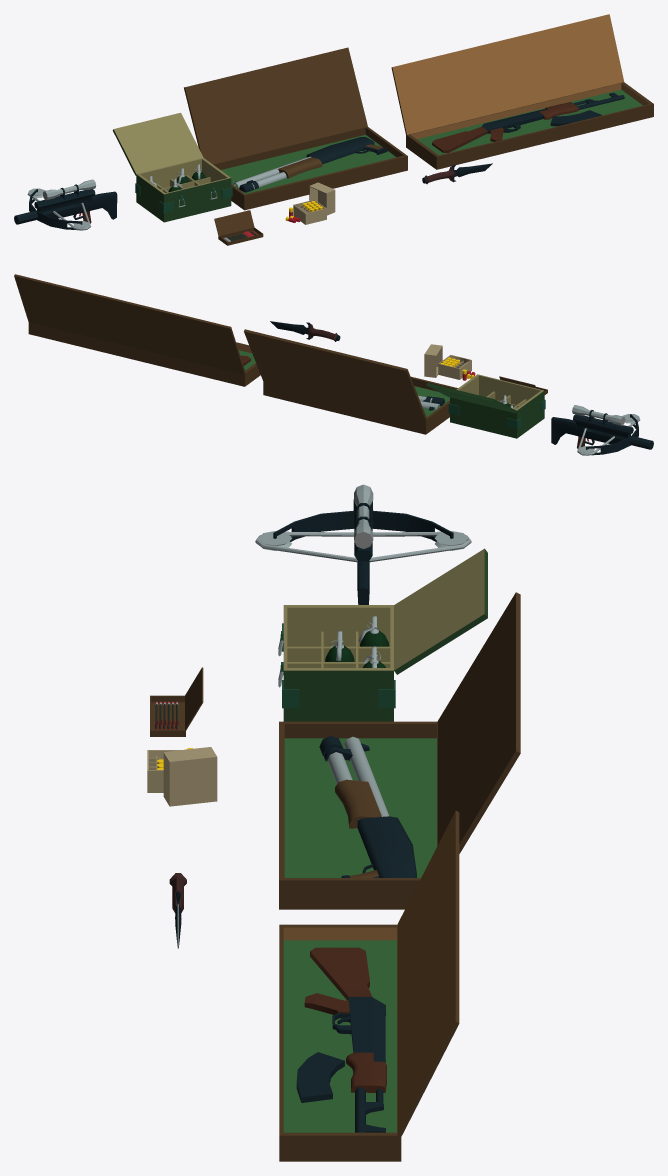
Rendered from Assets_gunshop.fbx.
3 renders of one model, top to bottom at view 1: azimuth 30°, elevation 25°; view 2: azimuth 150°, elevation 25°; view 3: azimuth 270°, elevation 25°, orthographic. The views are drawn at different scales.
Parts seen in each view (by area): view 1: AKM, Shotgun, Granade, Crossbow, Shotgun_ammo, Bolts, Knife; view 2: AKM, Shotgun, Granade, Crossbow, Shotgun_ammo, Knife; view 3: AKM, Shotgun, Granade, Crossbow, Shotgun_ammo, Bolts.
Part boxes in pixels (x1=…): AKM: x1=391, y1=14, x2=653, y2=169; Shotgun: x1=184, y1=47, x2=407, y2=210; Granade: x1=112, y1=112, x2=232, y2=222; Crossbow: x1=14, y1=179, x2=117, y2=230; Shotgun_ammo: x1=285, y1=182, x2=335, y2=224; Bolts: x1=214, y1=210, x2=263, y2=245; Knife: x1=422, y1=163, x2=492, y2=184; AKM: x1=14, y1=274, x2=260, y2=386; Shotgun: x1=244, y1=329, x2=457, y2=434; Granade: x1=426, y1=374, x2=545, y2=438; Crossbow: x1=551, y1=405, x2=653, y2=455; Shotgun_ammo: x1=424, y1=344, x2=475, y2=380; Knife: x1=270, y1=321, x2=340, y2=341; AKM: x1=279, y1=810, x2=459, y2=1161; Shotgun: x1=279, y1=592, x2=520, y2=909; Granade: x1=278, y1=548, x2=487, y2=721; Crossbow: x1=255, y1=484, x2=471, y2=604; Shotgun_ammo: x1=147, y1=747, x2=217, y2=806; Bolts: x1=150, y1=667, x2=203, y2=736.
Bounding box in the file's own units: 1734 × 231 × 457.
